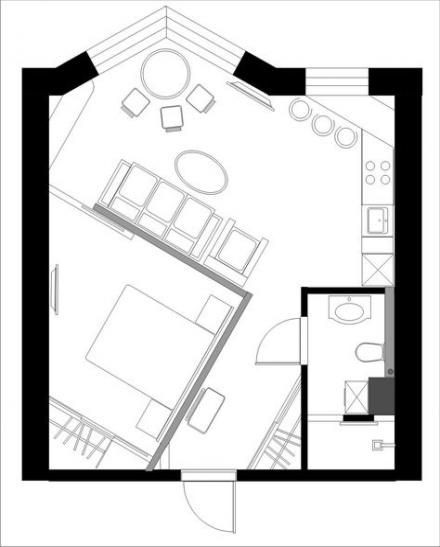room: (48, 99, 305, 465), (304, 94, 395, 286), (308, 290, 398, 472), (88, 49, 259, 106)
wall: (386, 64, 430, 490), (12, 63, 54, 489), (237, 456, 420, 495), (16, 459, 183, 490), (236, 46, 313, 106), (45, 56, 103, 99), (368, 61, 428, 101), (296, 364, 316, 476), (294, 279, 387, 302), (289, 277, 312, 318)
window: (77, 1, 247, 80), (177, 465, 244, 536), (245, 311, 314, 372), (304, 65, 370, 101)
